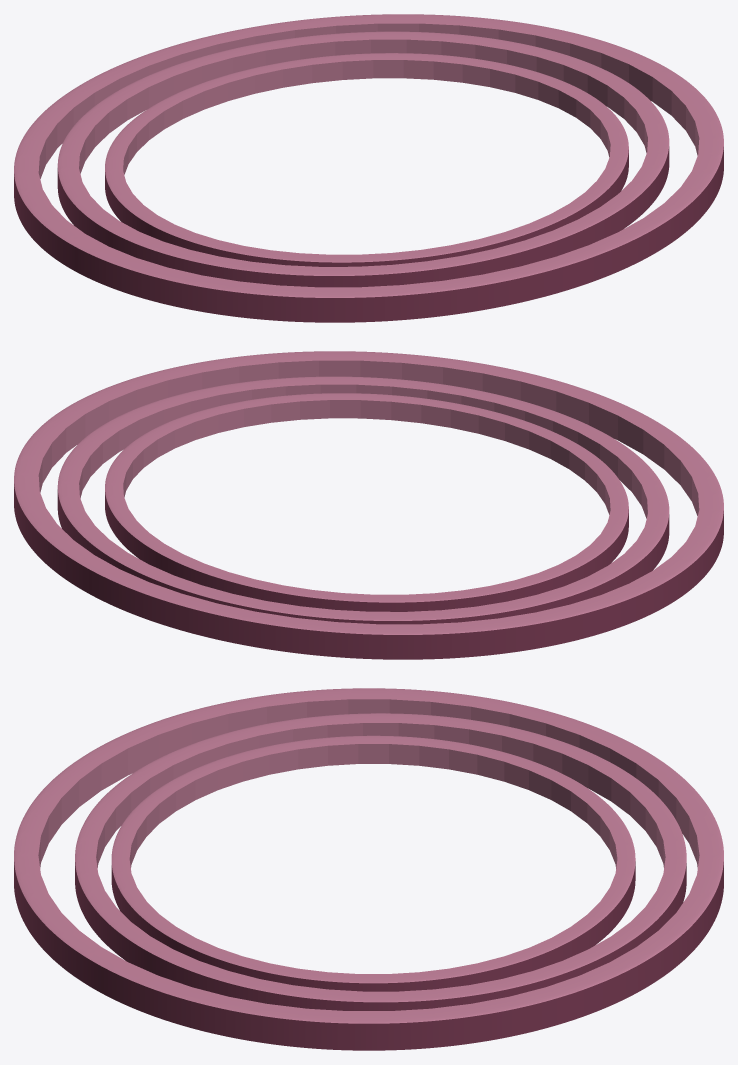
Rendered from onion.fbx.
3 views of the same model, one above another, from view 1: azimuth 30°, elevation 25°; view 2: azimuth 150°, elevation 25°; view 3: azimuth 270°, elevation 25° (orthographic). The views are drawn at different scales.
Visible parts, largest first — view 1: Cylinder.006; view 2: Cylinder.006; view 3: Cylinder.006.
Part boxes in pixels (x1,y1,x2,y2): Cylinder.006: (14,14,723,322); Cylinder.006: (14,351,723,659); Cylinder.006: (14,688,723,1050).
Bounding box in the file's own units: 648 × 25.28 × 580.
1 material, 1 textured.
